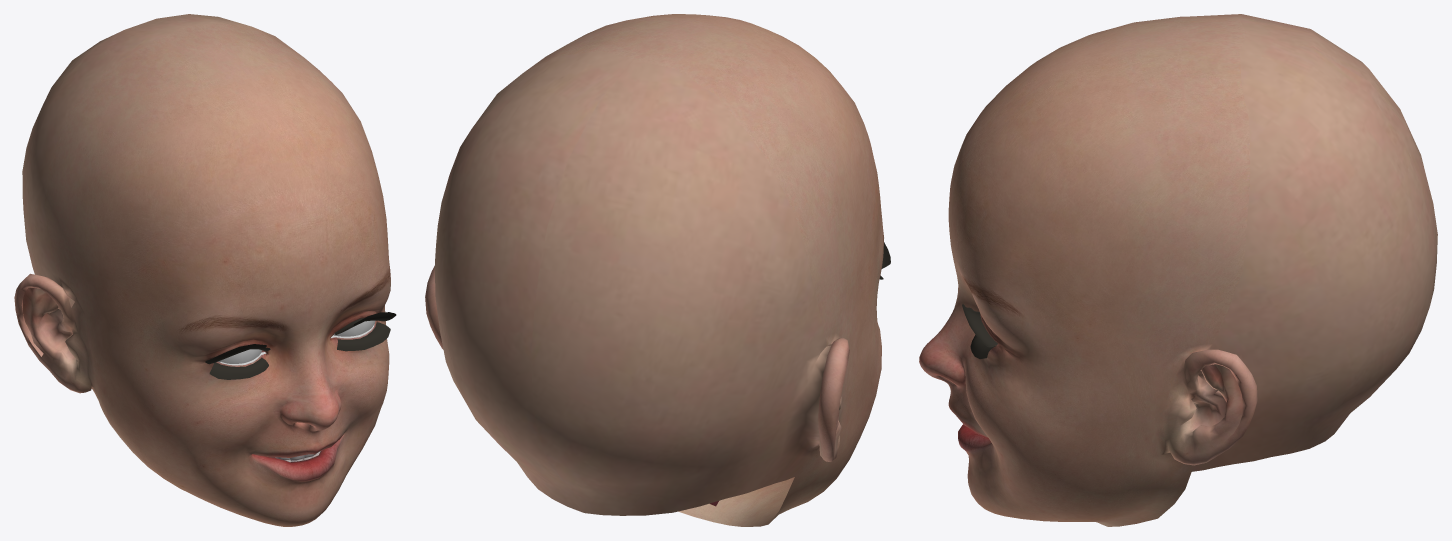
File: Child.obj
3 renders of one model, left to right at view 1: azimuth 30°, elevation 25°; view 2: azimuth 150°, elevation 25°; view 3: azimuth 270°, elevation 25°, orthographic. The views are drawn at different scales.
Visible parts, largest first — view 1: head; view 2: head; view 3: head.
Boxes of the visible parts, x1,y1,x2,y2 form: head: (14, 14, 396, 526); head: (425, 14, 890, 526); head: (919, 14, 1437, 526).
Bounding box in the file's own units: 18.2 × 21.84 × 21.17.
